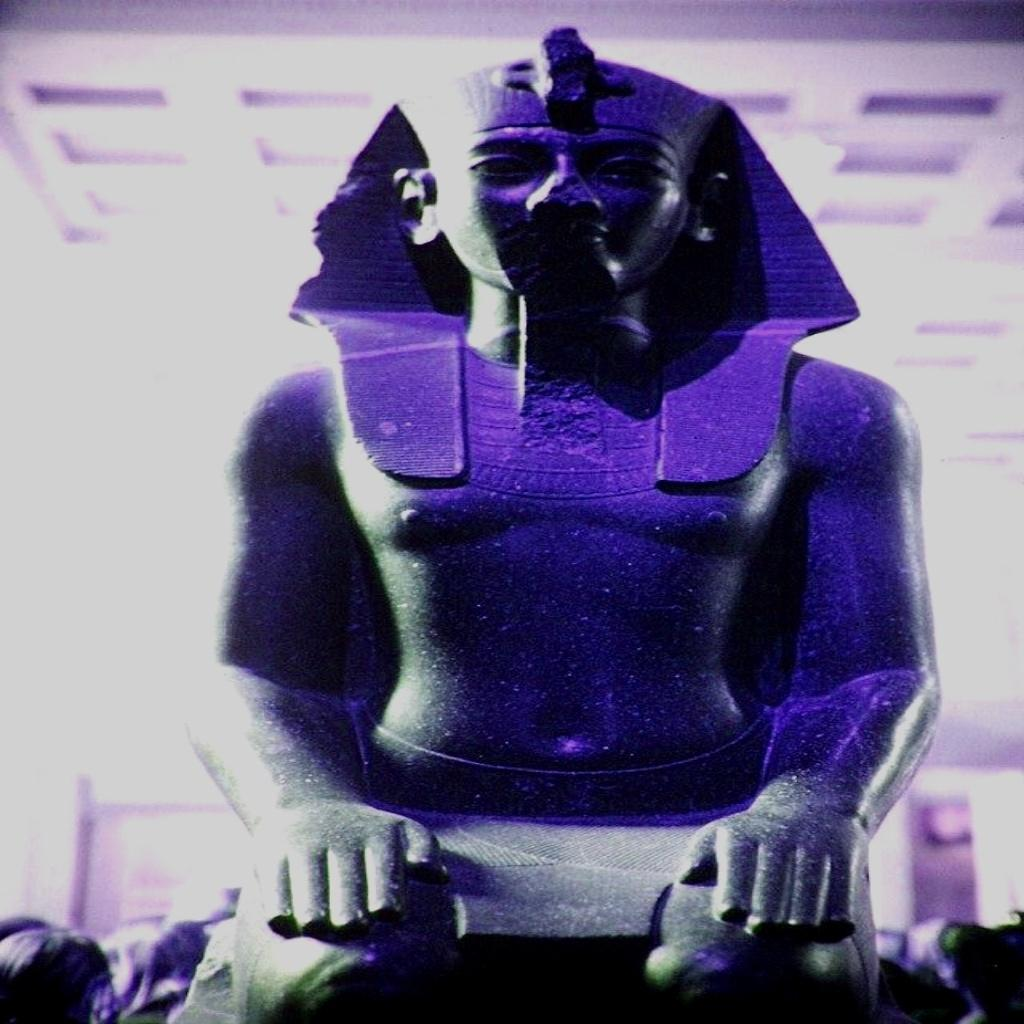Amenhotep III: (170, 26, 946, 1020)
